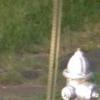Hydrant: (54, 39, 98, 100)
